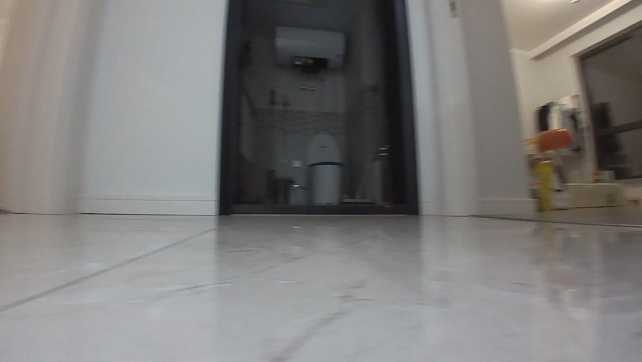door_sill: (230, 200, 406, 216)
toilet: (308, 127, 345, 202)
